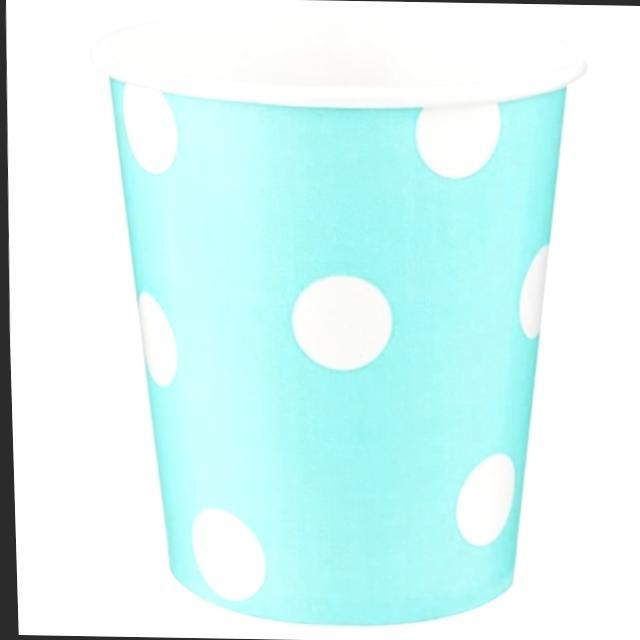cup: (63, 0, 603, 635)
